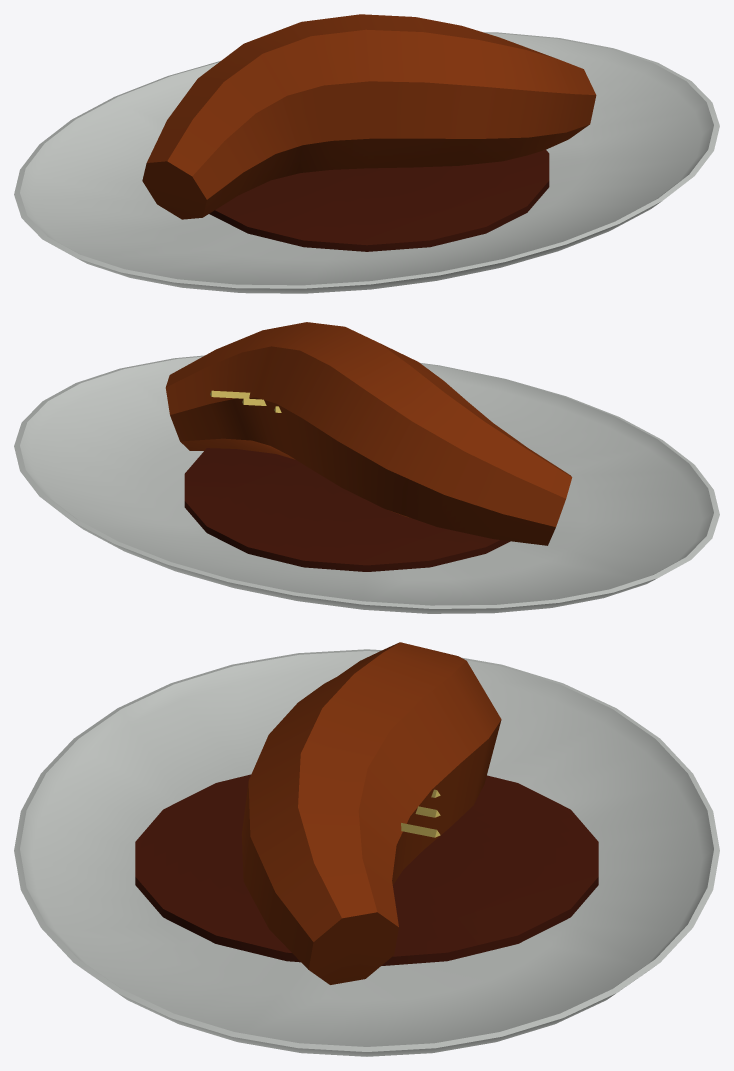
The model's file is fs-dish-vinegar-fish.glb.
3 renders of one model, top to bottom at view 1: azimuth 30°, elevation 25°; view 2: azimuth 150°, elevation 25°; view 3: azimuth 270°, elevation 25°, orthographic. The views are drawn at different scales.
Parts seen in each view (by area): view 1: plate__ceramic, food__food, sauce__sauce; view 2: plate__ceramic, food__food, sauce__sauce; view 3: plate__ceramic, food__food, sauce__sauce.
Part boxes in pixels (left/top/right/bottom): plate__ceramic: left=14, top=32, right=719, bottom=293; food__food: left=142, top=14, right=596, bottom=219; sauce__sauce: left=209, top=149, right=549, bottom=251; plate__ceramic: left=14, top=355, right=719, bottom=613; food__food: left=165, top=322, right=572, bottom=545; sauce__sauce: left=184, top=448, right=510, bottom=571; plate__ceramic: left=14, top=649, right=719, bottom=1056; food__food: left=241, top=642, right=501, bottom=984; sauce__sauce: left=135, top=774, right=598, bottom=965.
Size of the model in its own units: 0.405 by 0.101 by 0.3.
